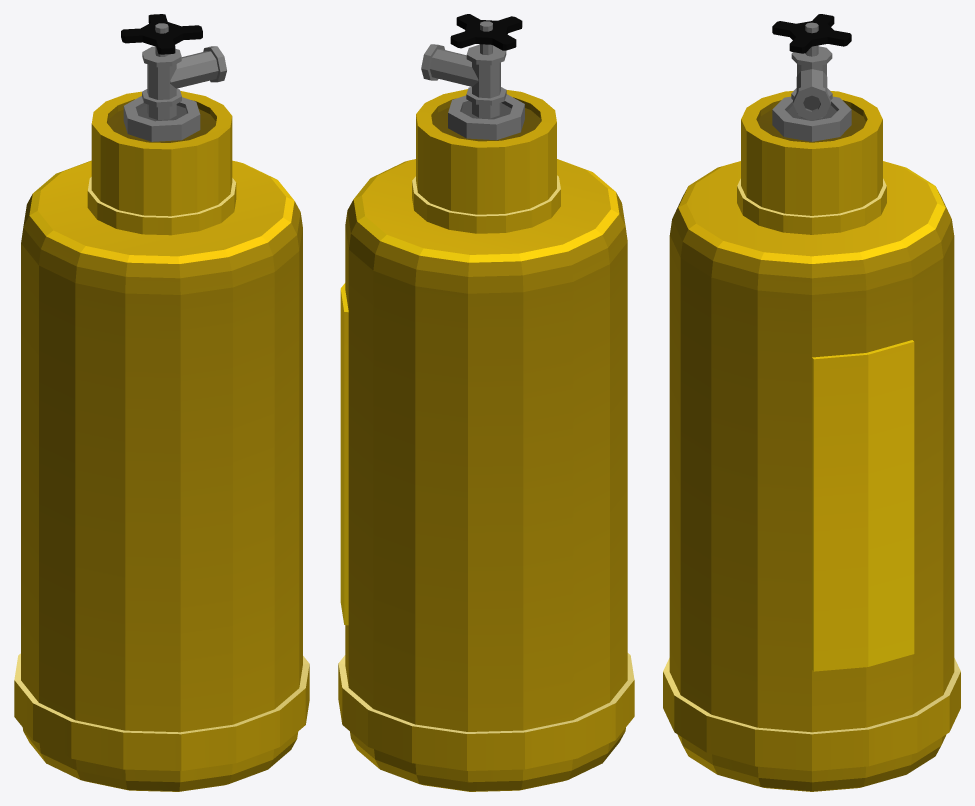
The model's file is SK_Prop_GasCylinder.fbx.
3 renders of one model, left to right at view 1: azimuth 30°, elevation 25°; view 2: azimuth 150°, elevation 25°; view 3: azimuth 270°, elevation 25°, orthographic.
Parts seen in each view (by area): view 1: Cylinder; view 2: Cylinder; view 3: Cylinder.
Boxes of the visible parts, x1,y1,x2,y2 form: Cylinder: (14, 14, 309, 791); Cylinder: (338, 14, 634, 791); Cylinder: (663, 14, 960, 791).
Bounding box in the file's own units: 0.75 × 1.98 × 0.75.
Materials: 1 (1 with a texture image).
